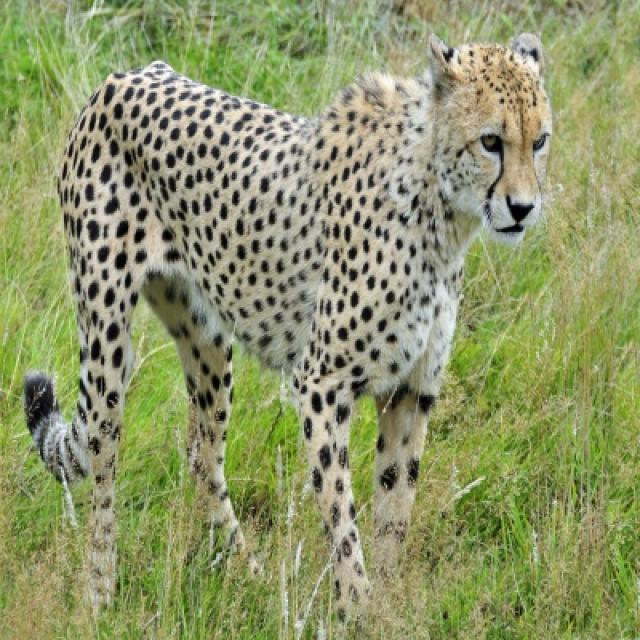Cheetah: (24, 32, 555, 613)
